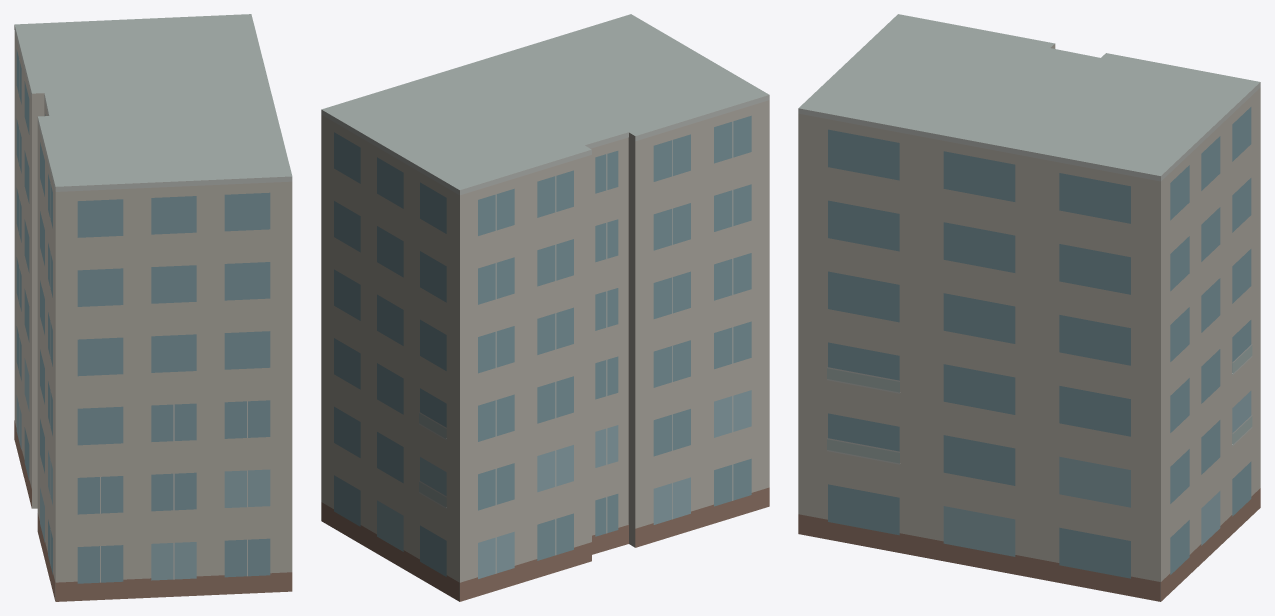
Rendered from survey-upis-33016798.glb.
The picture shows the model from 3 angles, left to right: view 1: azimuth 30°, elevation 25°; view 2: azimuth 150°, elevation 25°; view 3: azimuth 270°, elevation 25°; orthographic projection. The views are drawn at different scales.
Parts seen in each view (by area): view 1: survey-upis-33016798.tmp; view 2: survey-upis-33016798.tmp; view 3: survey-upis-33016798.tmp.
Boxes of the visible parts, x1=… form: survey-upis-33016798.tmp: x1=14, y1=14, x2=292, y2=601; survey-upis-33016798.tmp: x1=321, y1=14, x2=769, y2=601; survey-upis-33016798.tmp: x1=798, y1=14, x2=1260, y2=601.
Size of the model in its own units: 15.94 by 19.5 by 19.2.
